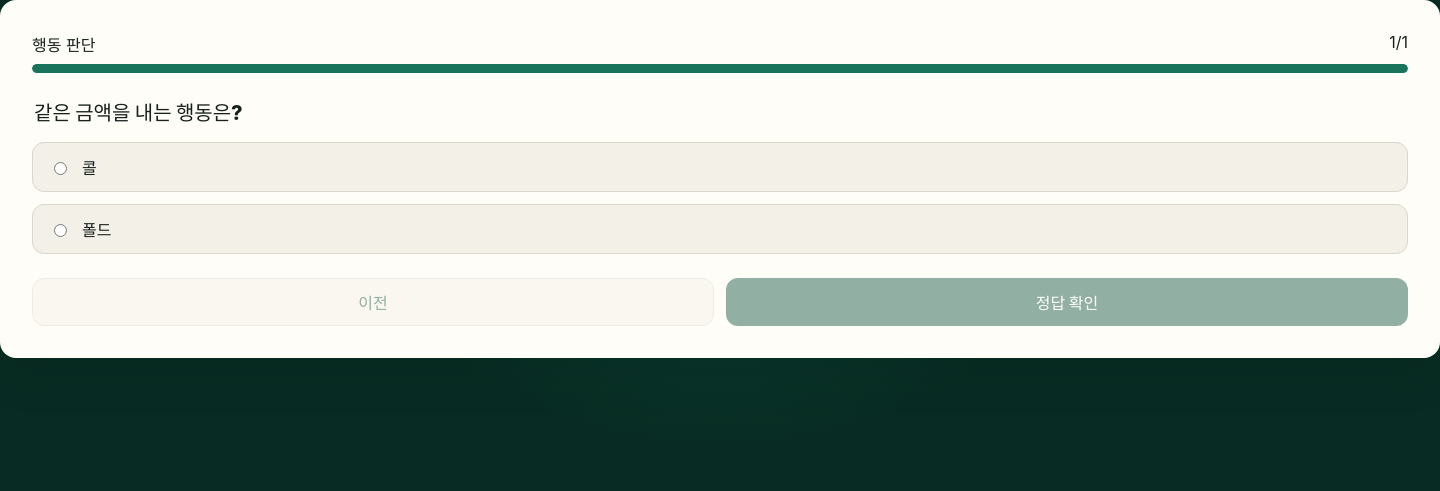
Test case: 답 제출 후 피드백과 완료 버튼을 보여준다
Click the radio button labelled "콜" at (60,168), box x1=54 y1=162 x2=67 y2=175
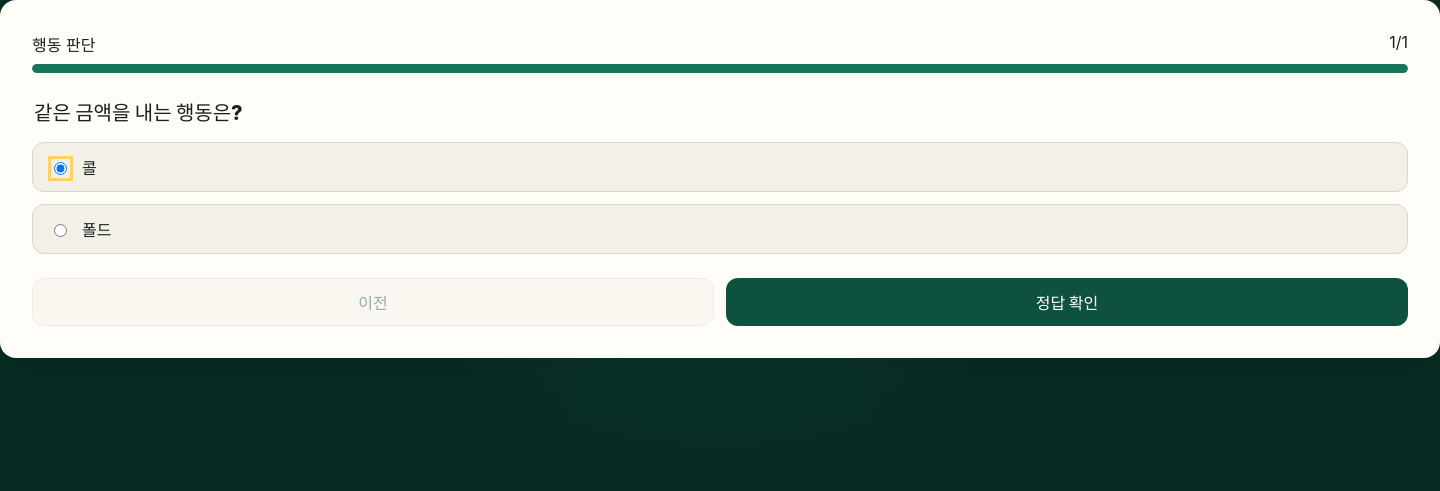
Click the button "정답 확인" at (1067,302), box x1=726 y1=278 x2=1408 y2=326
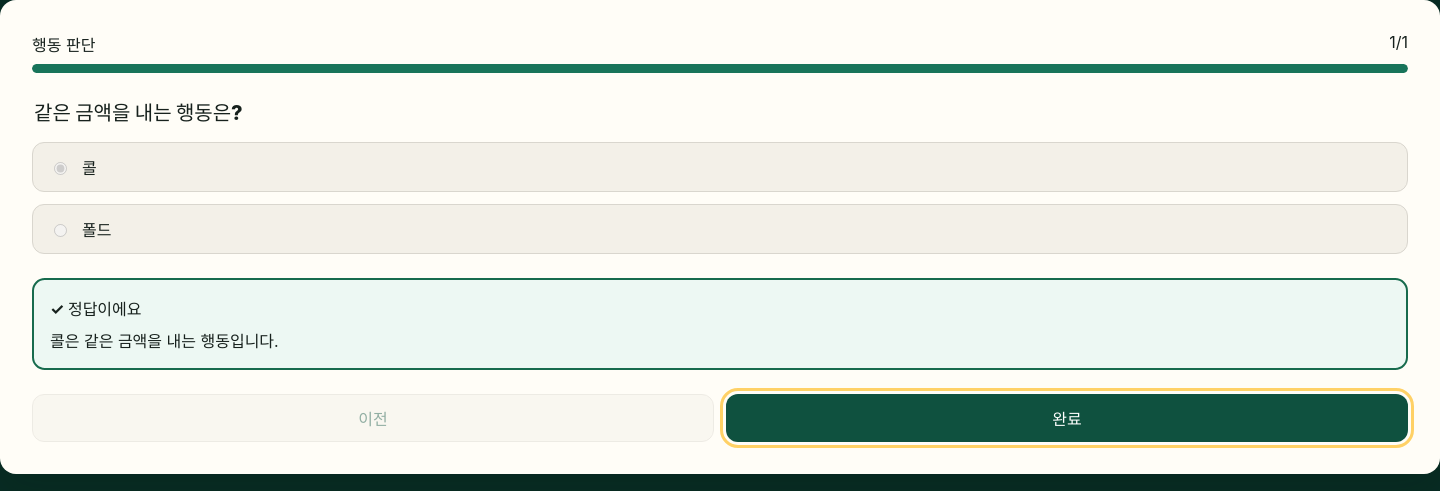
Result: the button "완료" is enabled at x1=726 y1=394 x2=1408 y2=442
Result: the message shows "정답이에요" at x1=68 y1=299 x2=142 y2=319
Result: the button "정답 확인" is gone
